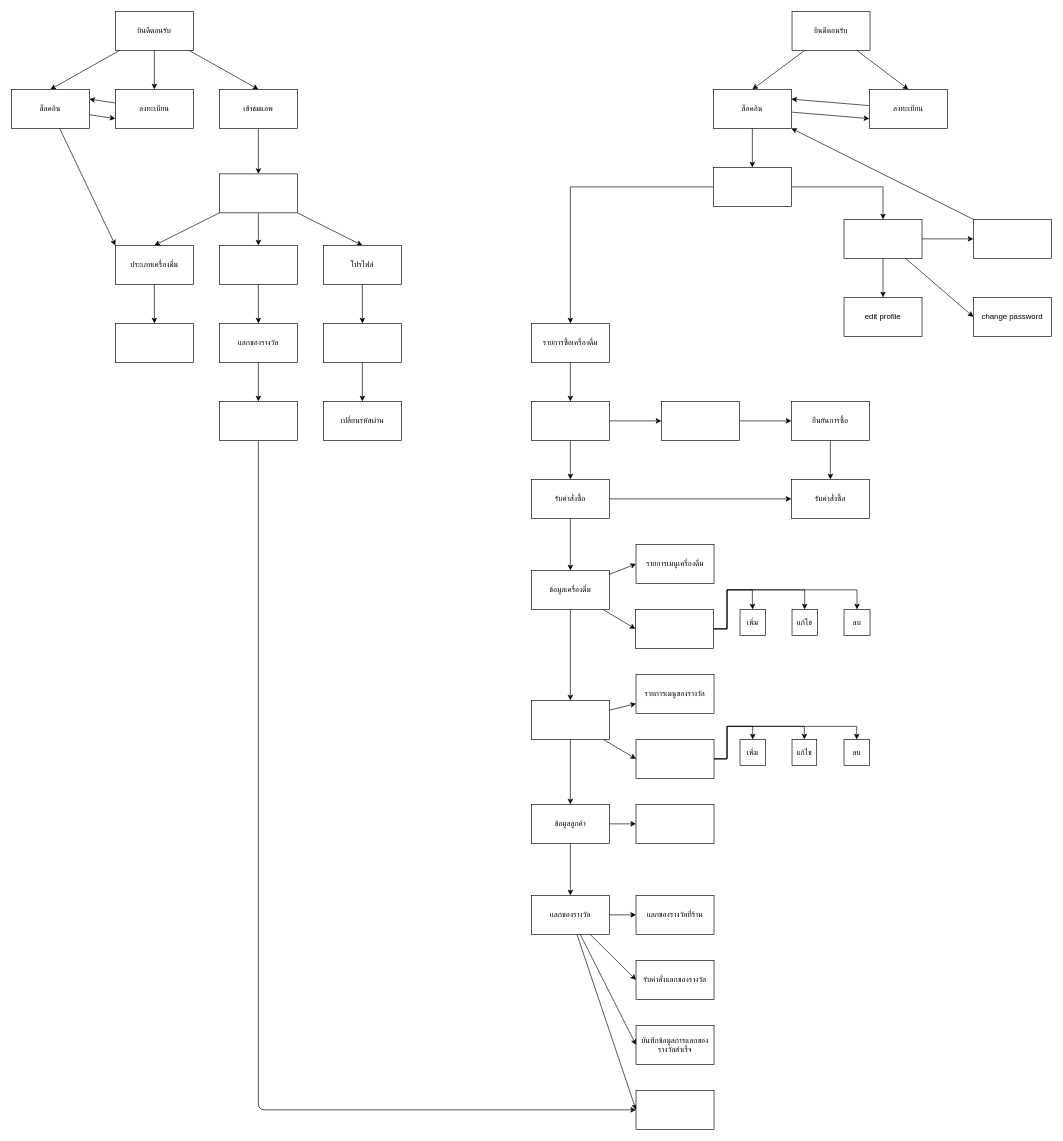
Some shapes in this 1063 by 1141 pixel diagram are drawn without their labels. The centre of each missing label's shape, as x and y in pixels:
"dashboard" belongs at [752,186].
"logout" belongs at [1012,238].
"profile" belongs at [882,238].
"tabs" belongs at [258,193].
"ของรางวัล" belongs at [258,264].
"ของรางวัลที่จะได้รับ" belongs at [258,420].
"ข้อมูลของรางวัล" belongs at [570,719].
"ข้อมูลมารับของรางวัล" belongs at [674,1109].
"จัดการข้อมูลของรางวัล" belongs at [674,758].
"จัดการข้อมูลเครื่องดื่ม" belongs at [674,628].
"รายชื่อลูกค้า" belongs at [674,823].
"สั่งซื้อเที่ร้าน" belongs at [570,420].
"เครื่องดื่ม" belongs at [154,342].
"เลือกเครื่องดื่ม" belongs at [700,420].
"แก้ไขข้อมูลส่วนตัว" belongs at [362,342].
